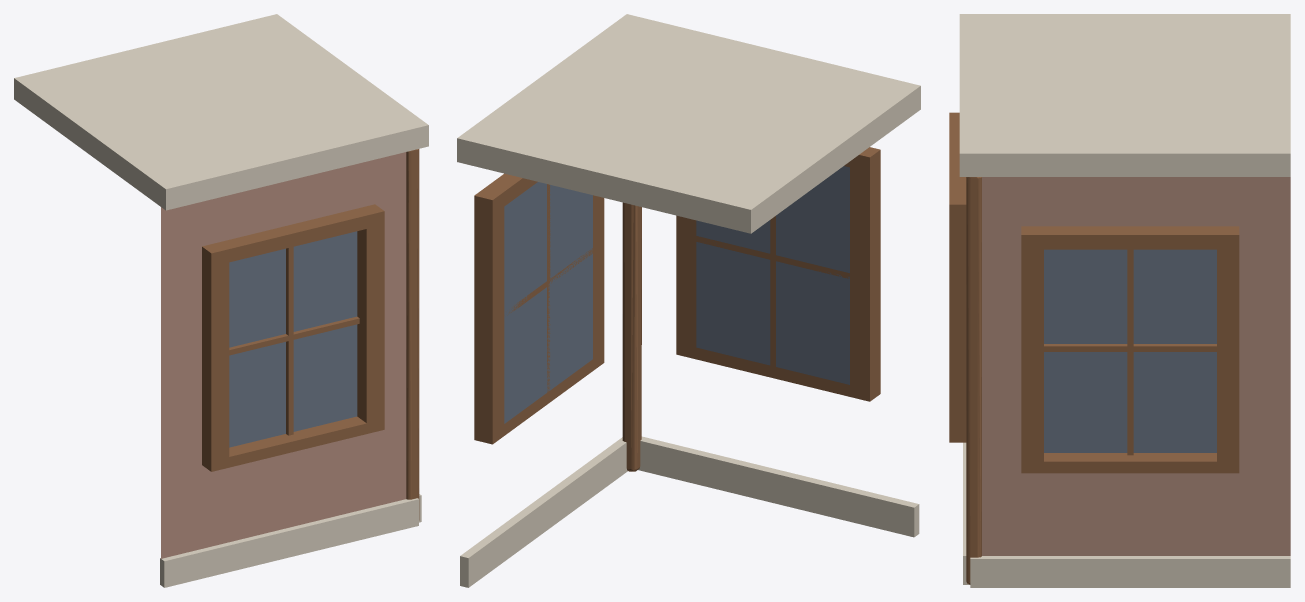
The model's file is CornerWindow90.glb.
3 renders of one model, left to right at view 1: azimuth 30°, elevation 25°; view 2: azimuth 150°, elevation 25°; view 3: azimuth 270°, elevation 25°, orthographic. The views are drawn at different scales.
Visible parts, largest first — view 1: PBK_floor_band.048, PBK_Brick_CornerWindow90_Exterior_Surface.001, PBK_glass.001, PBK_Continuous_Frame_Brick_Window.003, PBK_base_trim.001, PBK_ShopCornerPost90.021, PBK_Brick_Window_Balanced_Window_Cross.001; view 2: PBK_floor_band.048, PBK_glass.001, PBK_glass.003, PBK_Continuous_Frame_Brick_Window.003, PBK_Continuous_Frame_Brick_Window.004, PBK_base_trim.001, PBK_base_trim.003, PBK_ShopCornerPost90.021, PBK_Brick_Window_Balanced_Window_Cross.001, PBK_Brick_Window_Balanced_Window_Cross.002; view 3: PBK_Brick_CornerWindow90_Exterior_Surface.001, PBK_floor_band.048, PBK_glass.003, PBK_Continuous_Frame_Brick_Window.004, PBK_base_trim.003, PBK_ShopCornerPost90.021, PBK_Continuous_Frame_Brick_Window.003, PBK_Brick_Window_Balanced_Window_Cross.002, PBK_base_trim.001.
Boxes of the visible parts, x1,y1,x2,y2 form: PBK_floor_band.048: (14, 14, 428, 210); PBK_Brick_CornerWindow90_Exterior_Surface.001: (161, 152, 406, 558); PBK_glass.001: (229, 231, 357, 447); PBK_Continuous_Frame_Brick_Window.003: (202, 204, 384, 471); PBK_base_trim.001: (160, 498, 418, 587); PBK_ShopCornerPost90.021: (406, 149, 419, 520); PBK_Brick_Window_Balanced_Window_Cross.001: (229, 247, 359, 435); PBK_floor_band.048: (457, 14, 920, 233); PBK_glass.001: (696, 166, 849, 384); PBK_glass.003: (504, 182, 592, 423); PBK_Continuous_Frame_Brick_Window.003: (676, 147, 880, 401); PBK_Continuous_Frame_Brick_Window.004: (474, 173, 604, 444); PBK_base_trim.001: (638, 436, 919, 537); PBK_base_trim.003: (460, 437, 627, 587); PBK_ShopCornerPost90.021: (622, 202, 641, 471); PBK_Brick_Window_Balanced_Window_Cross.001: (696, 216, 849, 366); PBK_Brick_Window_Balanced_Window_Cross.002: (507, 184, 592, 392); PBK_Brick_CornerWindow90_Exterior_Surface.001: (982, 177, 1290, 555); PBK_floor_band.048: (959, 14, 1290, 176); PBK_glass.003: (1044, 249, 1216, 452); PBK_Continuous_Frame_Brick_Window.004: (1021, 226, 1239, 473); PBK_base_trim.003: (970, 556, 1290, 587); PBK_ShopCornerPost90.021: (966, 177, 981, 584); PBK_Continuous_Frame_Brick_Window.003: (949, 112, 966, 442); PBK_Brick_Window_Balanced_Window_Cross.002: (1044, 249, 1216, 455); PBK_base_trim.001: (963, 442, 969, 584).
Size of the model in its own units: 2.13 by 3 by 2.13.
